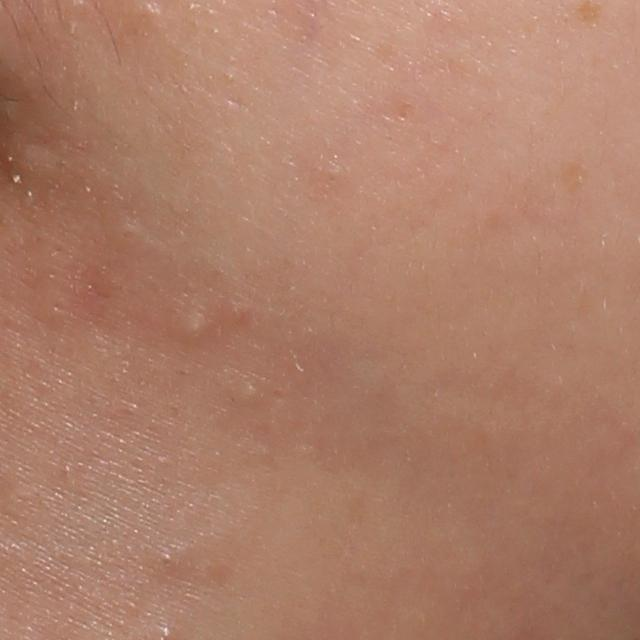comedo: (176, 300, 211, 344), (159, 550, 173, 567)
